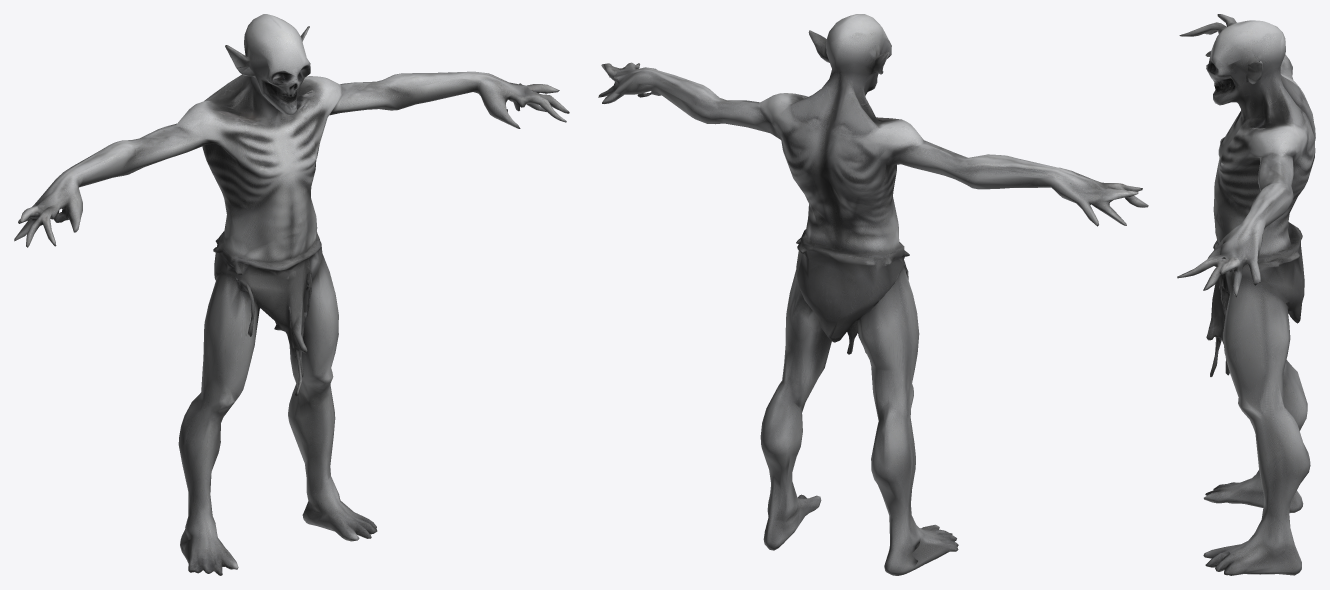
Rendered from ghoul.glb.
3 views of the same model, side by side, from view 1: azimuth 30°, elevation 25°; view 2: azimuth 150°, elevation 25°; view 3: azimuth 270°, elevation 25° (orthographic). The views are drawn at different scales.
Bounding box in the file's own units: 2 × 1.89 × 0.4519.
1 material, 1 textured.
